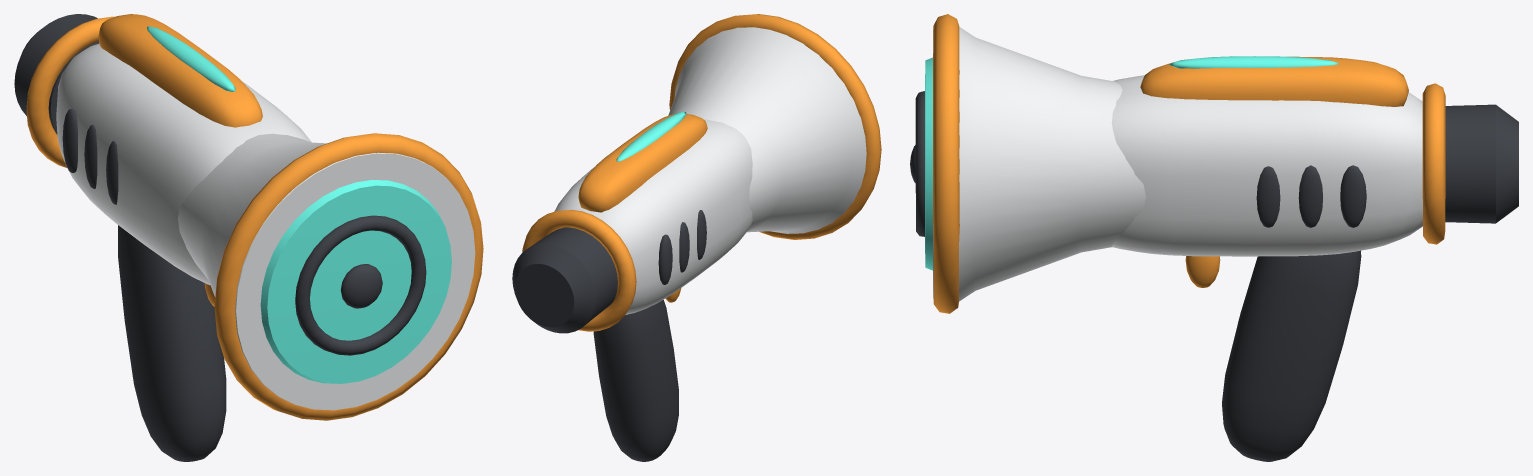
File: SM_BeaverTerrainTool.fbx
3 views of the same model, side by side, from view 1: azimuth 30°, elevation 25°; view 2: azimuth 150°, elevation 25°; view 3: azimuth 270°, elevation 25° (orthographic). The views are drawn at different scales.
Parts seen in each view (by area): view 1: SM_BeaverTerrainTool; view 2: SM_BeaverTerrainTool; view 3: SM_BeaverTerrainTool.
Part boxes in pixels (x1,y1,x2,y2): SM_BeaverTerrainTool: (14, 14, 483, 461); SM_BeaverTerrainTool: (512, 14, 881, 461); SM_BeaverTerrainTool: (910, 14, 1518, 461).
Size of the model in its own units: 0.1559 by 0.2466 by 0.316.
